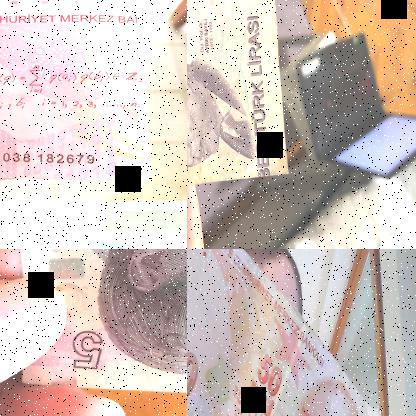5 TL: (0, 0, 153, 185)
